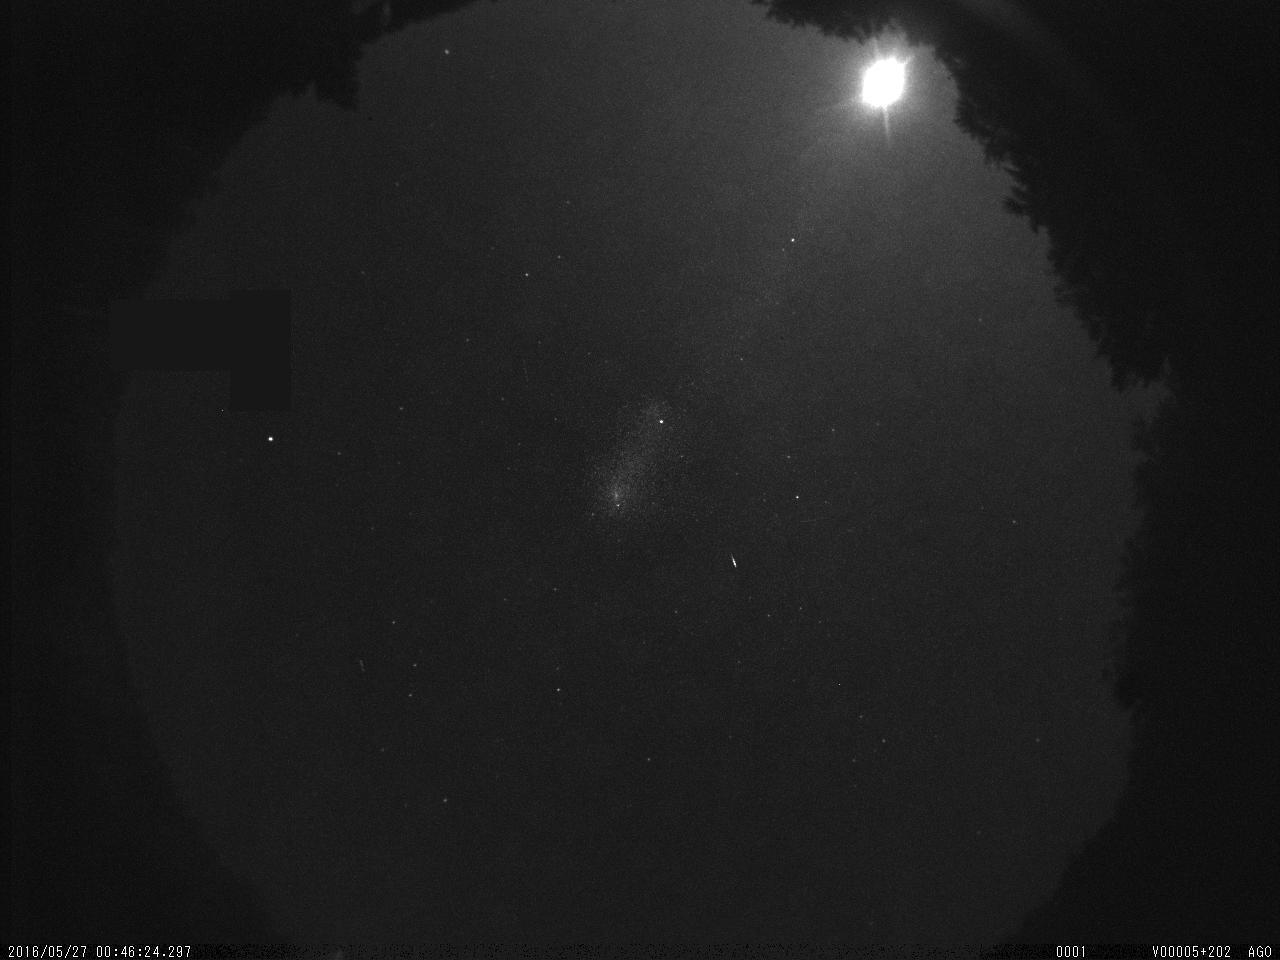meteor: (726, 549, 742, 575)
